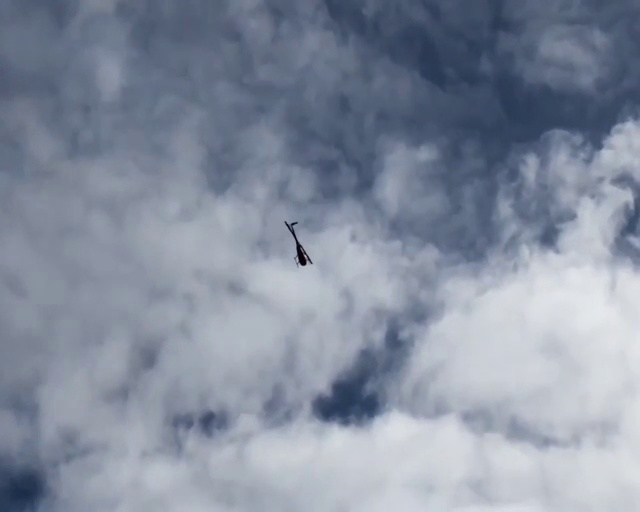HELICOPTER: (283, 220, 313, 266)
